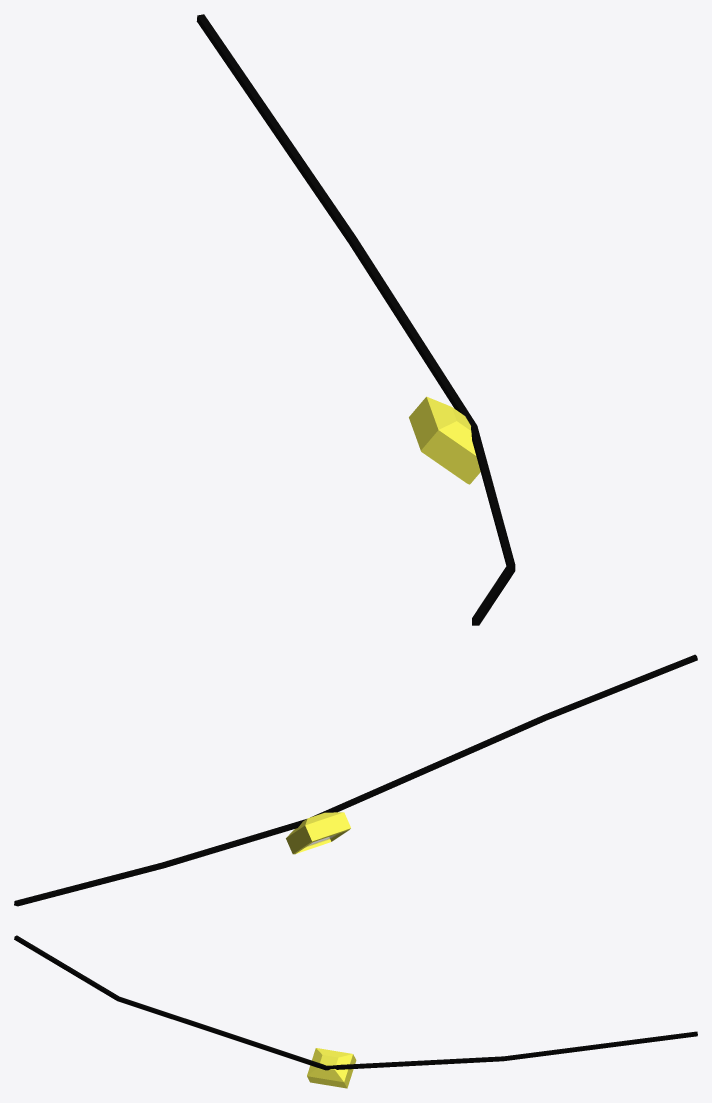
The model's file is Cable and Light.fbx.
The picture shows the model from 3 angles, top to bottom: view 1: azimuth 30°, elevation 25°; view 2: azimuth 150°, elevation 25°; view 3: azimuth 270°, elevation 25°; orthographic projection. The views are drawn at different scales.
Visible parts, largest first — view 1: Cube.006, Cube.008; view 2: Cube.006, Cube.008; view 3: Cube.006, Cube.008.
Boxes of the visible parts, x1,y1,x2,y2 form: Cube.006: (196, 14, 515, 625); Cube.008: (409, 396, 480, 484); Cube.006: (14, 654, 697, 906); Cube.008: (286, 812, 350, 854); Cube.006: (14, 935, 697, 1070); Cube.008: (307, 1048, 356, 1088).
Size of the model in its own units: 171 by 62.38 by 490.
